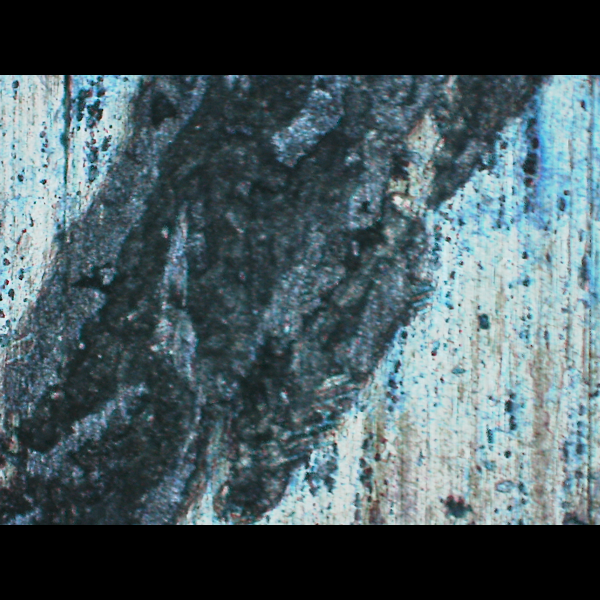d: (0, 76, 570, 525)
